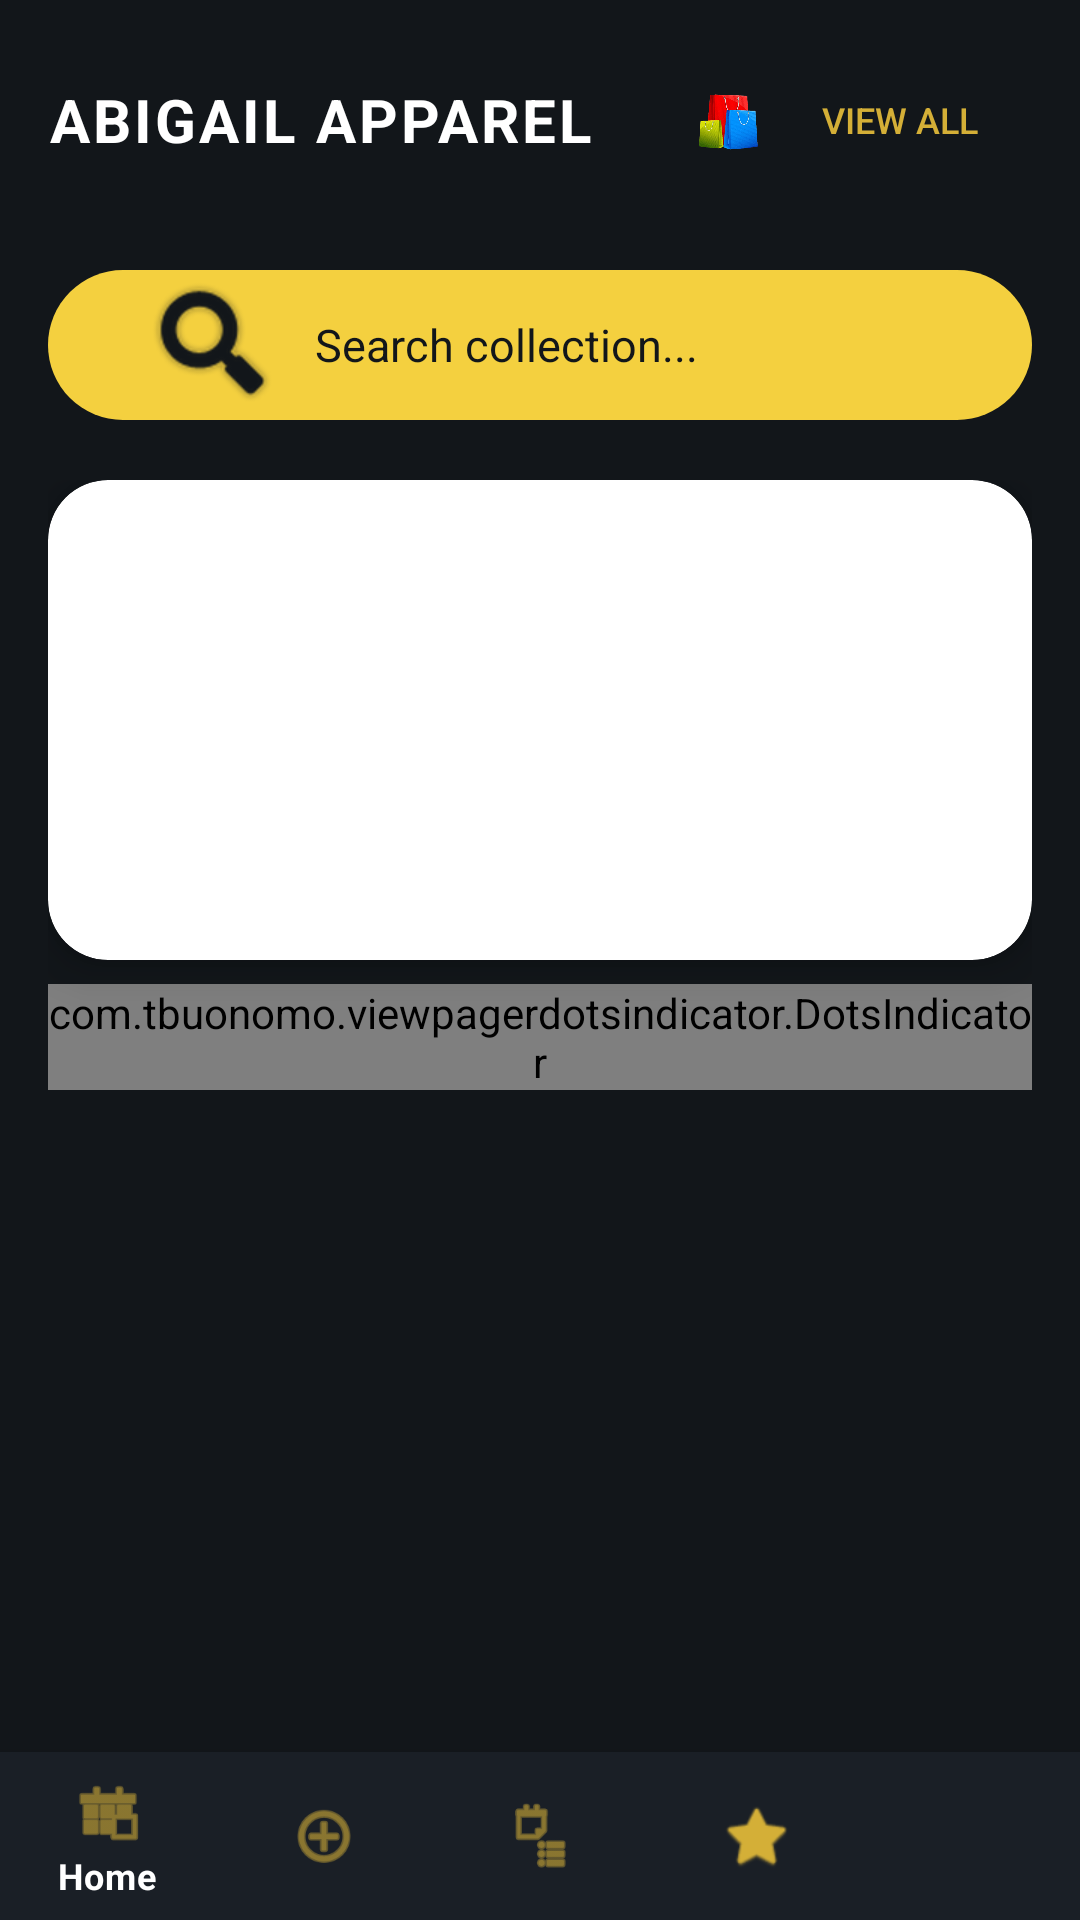

Icon click points for this 1080 × 1920 phone screenshot, format point (x, y):
Bag Icon: point (728, 122)
